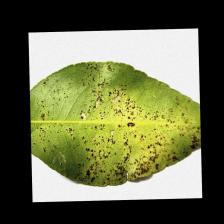canker: (51, 84, 153, 174)
